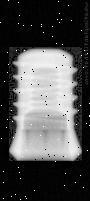Novodent: (9, 47, 82, 161)
